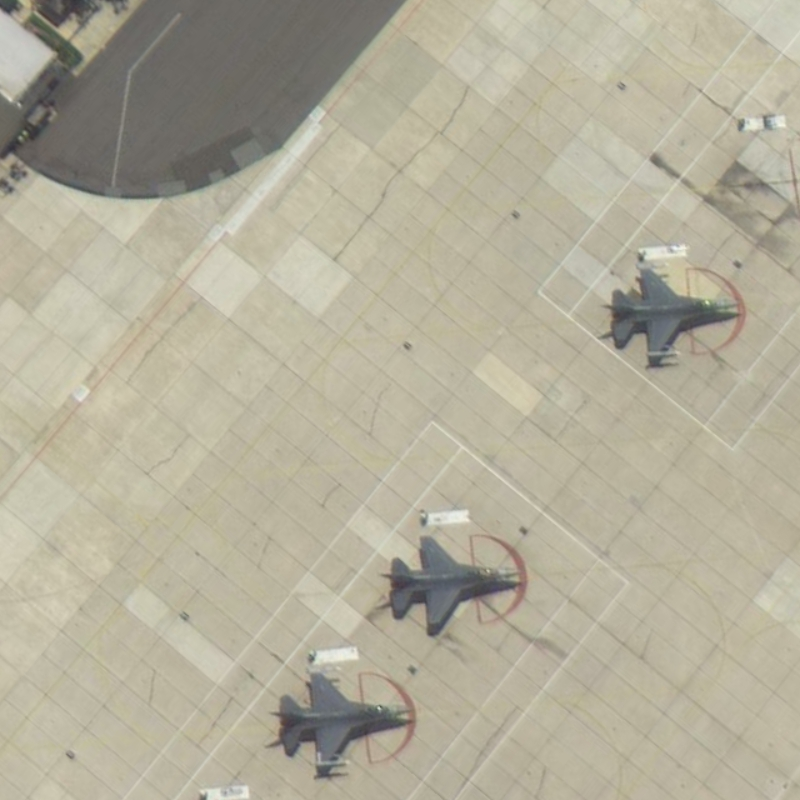A5: (265, 664, 415, 778), (597, 261, 742, 372), (377, 533, 527, 637)
